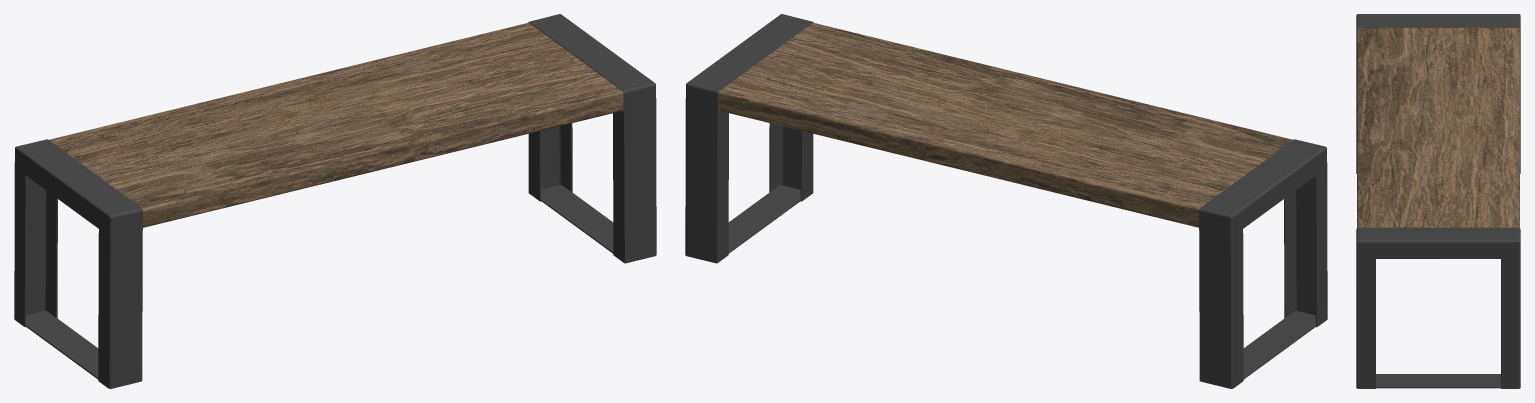
File: bench_5.fbx
3 renders of one model, left to right at view 1: azimuth 30°, elevation 25°; view 2: azimuth 150°, elevation 25°; view 3: azimuth 270°, elevation 25°, orthographic. The views are drawn at different scales.
Visible parts, largest first — view 1: bench_5; view 2: bench_5; view 3: bench_5.
Part boxes in pixels (bbox=[...]): bench_5: bbox=[14, 14, 656, 388]; bench_5: bbox=[685, 14, 1327, 388]; bench_5: bbox=[1356, 14, 1520, 388].
Size of the model in its own units: 163 by 49.11 by 49.54.
1 material, 1 textured.
